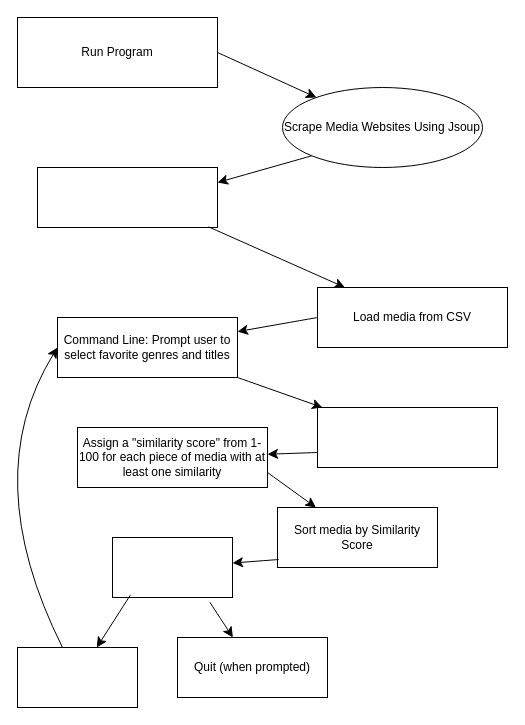
The diagram is 525 pixels wide and 725 high, and some of its shapes have lost their labels. Each missing label, with the centre of its shape:
"Compare preferences with media attributes" belongs at point 407,437.
"Display Rankings" belongs at point 172,567.
"Save Media to CSV" belongs at point 127,197.
"Search again (when prompted)" belongs at point 77,677.
